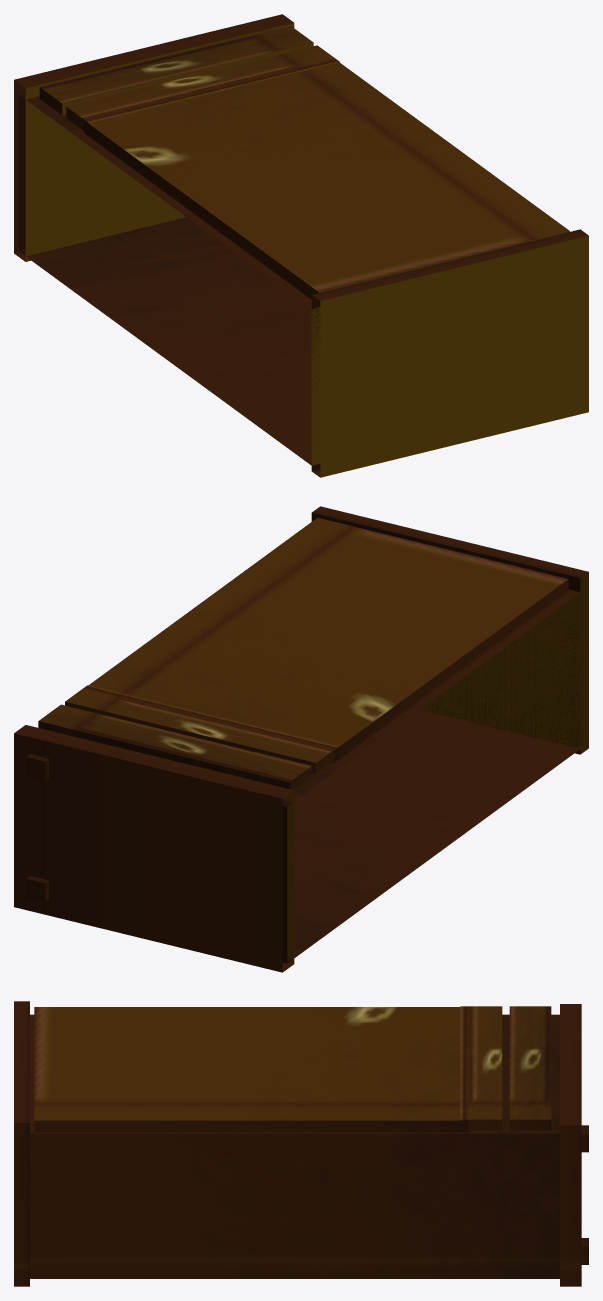
File: pz_wardrobe_storage_01_fancy_oak_1_0.obj
3 views of the same model, one above another, from view 1: azimuth 30°, elevation 25°; view 2: azimuth 150°, elevation 25°; view 3: azimuth 270°, elevation 25° (orthographic). The views are drawn at different scales.
Bounding box in the file's own units: 0.995 × 0.625 × 1.99.
Materials: 1 (1 with a texture image).
